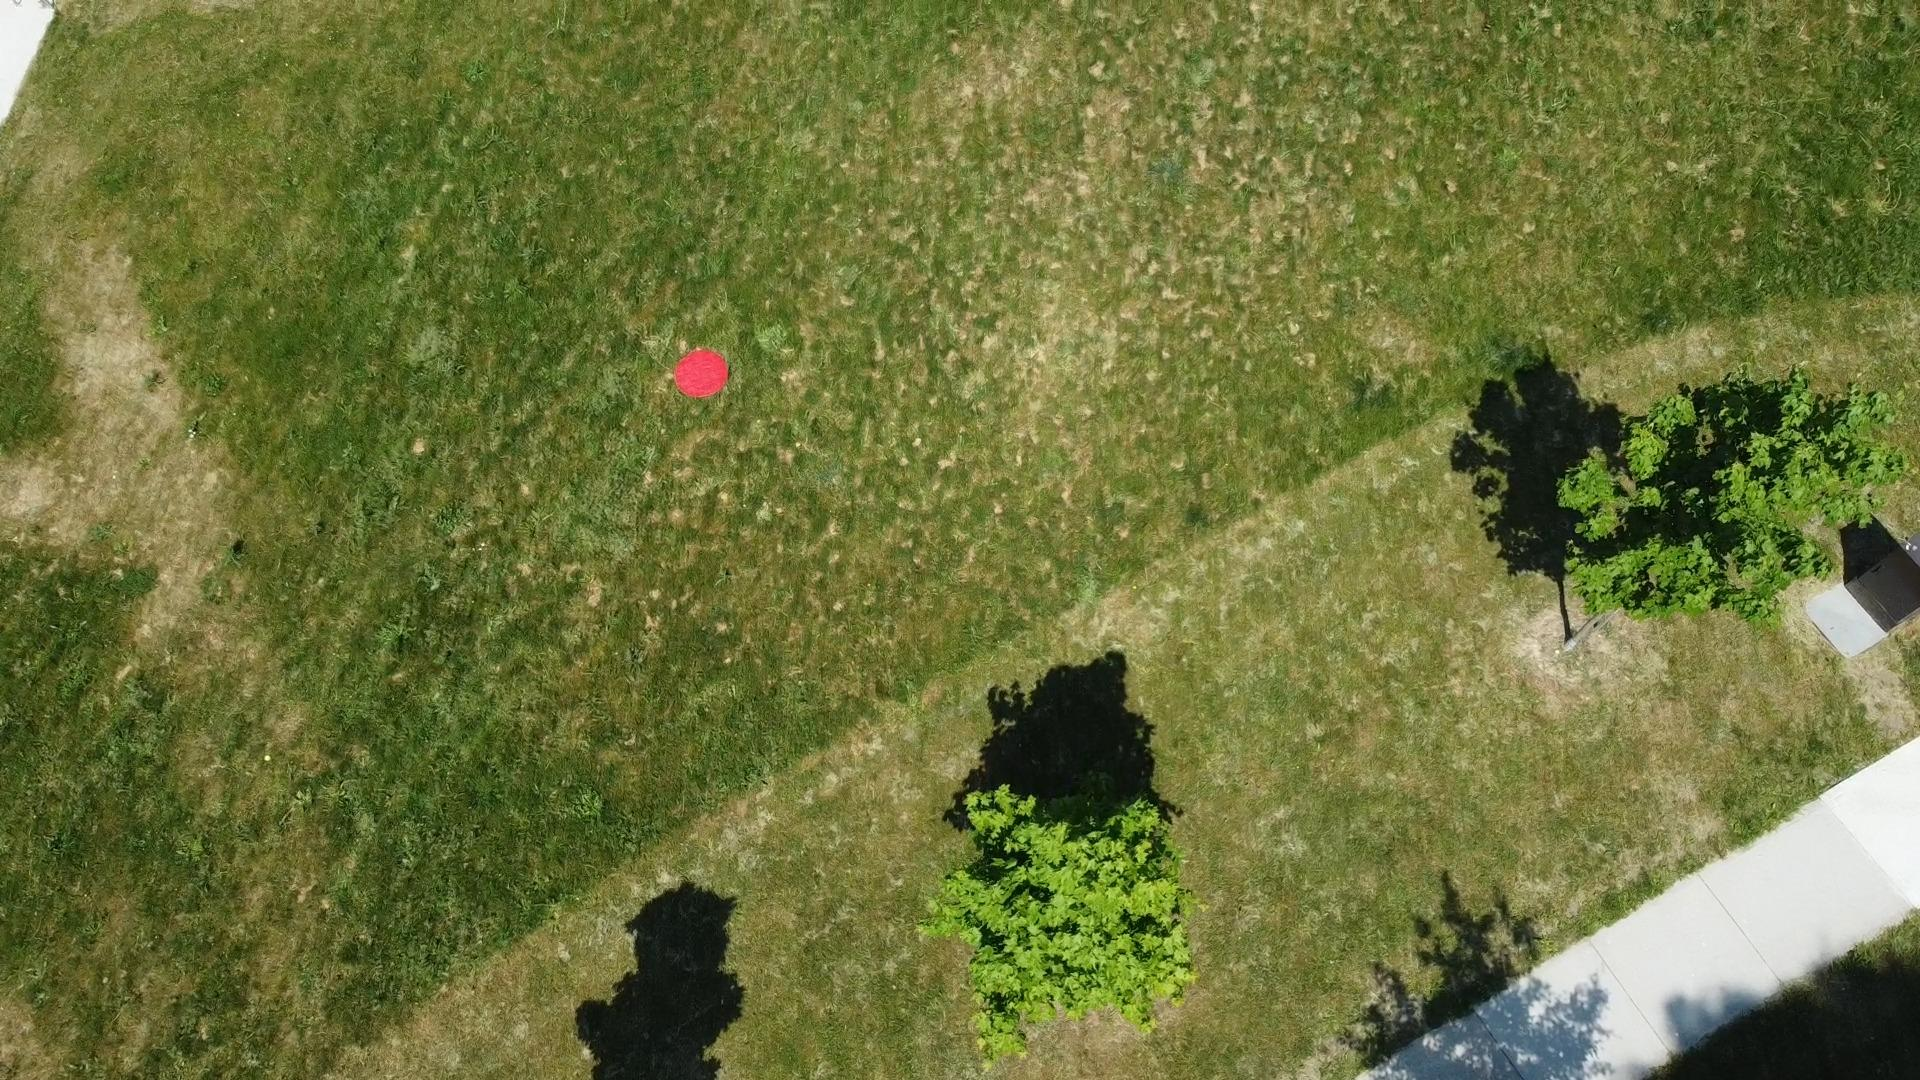Red: (671, 347, 732, 400)
